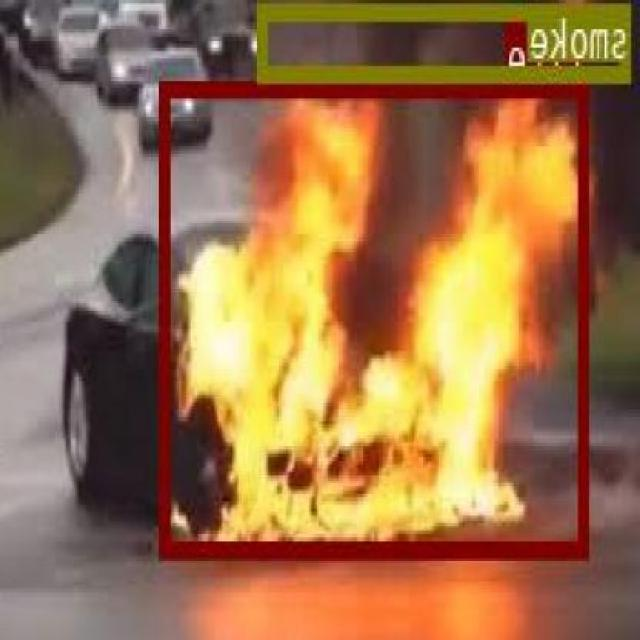Fire: (163, 77, 592, 554)
Smoke: (260, 0, 634, 80)
